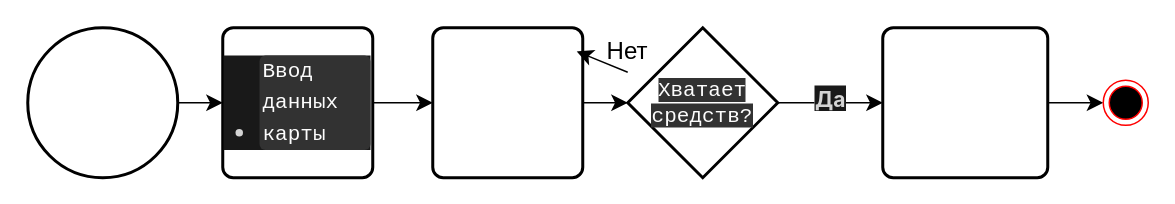
The diagram is 1175 pixels wide and 204 high, and some of its shapes have lost their labels. Here are the shapes that lost their labels. From the top down, the box of each, then its label:
(430, 26, 584, 178): Проверка баланса банком
(880, 26, 1048, 178): Успешное списание денег
